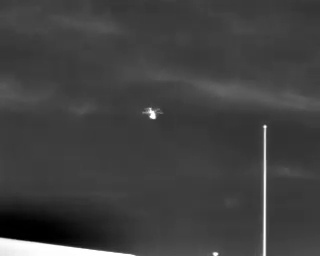HELICOPTER: (138, 101, 167, 124)
